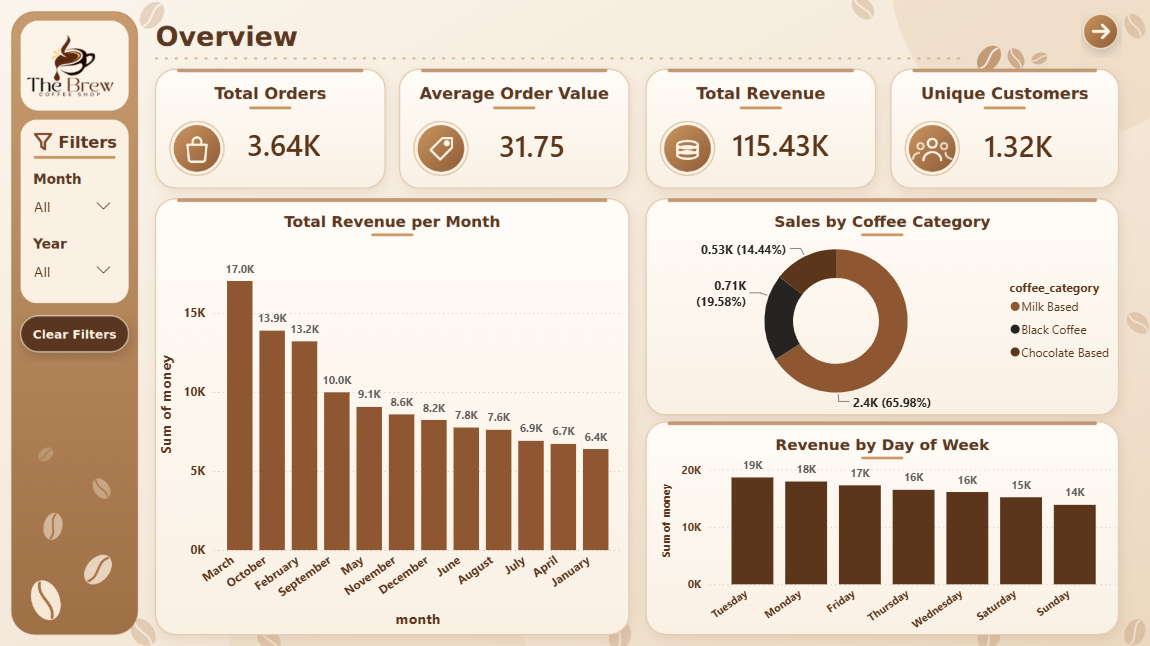

The dashboard page shown, as its layout file describes it:
{"tool":"powerbi","page":{"name":"overview","canvas":[1280,720],"ordinal":0},"visuals":[{"type":"slicer","fields":{"Values":["index_11.month"]},"box":[23.3,203.3,116.7,51.1],"z":0},{"type":"cardVisual","title":"Total Revenue","fields":{"Data":["index_11.Total Revenue"]},"box":[777.8,124.4,180,70],"z":1000},{"type":"cardVisual","title":"Total Orders","fields":{"Data":["index_11.Total Orders"]},"box":[218.3,126.7,196.7,66.7],"z":2000},{"type":"cardVisual","title":"Average Order Value ","fields":{"Data":["index_11.Average Order Value"]},"box":[506.7,125,171.7,73.3],"z":3000},{"type":"cardVisual","title":"Unique Customers","fields":{"Data":["index_11.Unique Customers"]},"box":[1050,128.3,165,65],"z":4000},{"type":"clusteredColumnChart","title":"Revenue by Day of Week","fields":{"Category":["index_11.day"],"Y":["Sum(index_11.money)"]},"box":[731.7,493.3,516.7,226.7],"z":5000},{"type":"clusteredColumnChart","title":"Total Revenue per Month","fields":{"Category":["index_11.month"],"Y":["Sum(index_11.money)"]},"box":[173.3,275,523.3,428.3],"z":6000},{"type":"donutChart","title":"Sales by Coffee Category","fields":{"Category":["index_11.coffee_category"],"Y":["CountNonNull(index_11.coffee_category)"]},"box":[731.7,248.3,516,218],"z":7000},{"type":"slicer","fields":{"Values":["index_11.Year"]},"box":[23.3,275.6,116.7,50],"z":8000},{"type":"actionButton","box":[1204,16,44,44],"z":8001},{"type":"actionButton","box":[23.3,356.7,116.7,35],"z":8002}]}

Visuals, with their boxes in screenshot pixels (x1, y1, x2, y2), scaled from the page's 1280x720 canvas onto the 1150x646 screenshot:
slicer - index_11.month: x1=21, y1=182, x2=126, y2=228
"Total Revenue" cardVisual: x1=699, y1=112, x2=861, y2=174
"Total Orders" cardVisual: x1=196, y1=114, x2=373, y2=174
"Average Order Value " cardVisual: x1=455, y1=112, x2=610, y2=178
"Unique Customers" cardVisual: x1=943, y1=115, x2=1092, y2=173
"Revenue by Day of Week" clusteredColumnChart: x1=657, y1=443, x2=1122, y2=645
"Total Revenue per Month" clusteredColumnChart: x1=156, y1=247, x2=626, y2=631
"Sales by Coffee Category" donutChart: x1=657, y1=223, x2=1121, y2=418
slicer - index_11.Year: x1=21, y1=247, x2=126, y2=292
actionButton: x1=1082, y1=14, x2=1121, y2=54
actionButton: x1=21, y1=320, x2=126, y2=351
